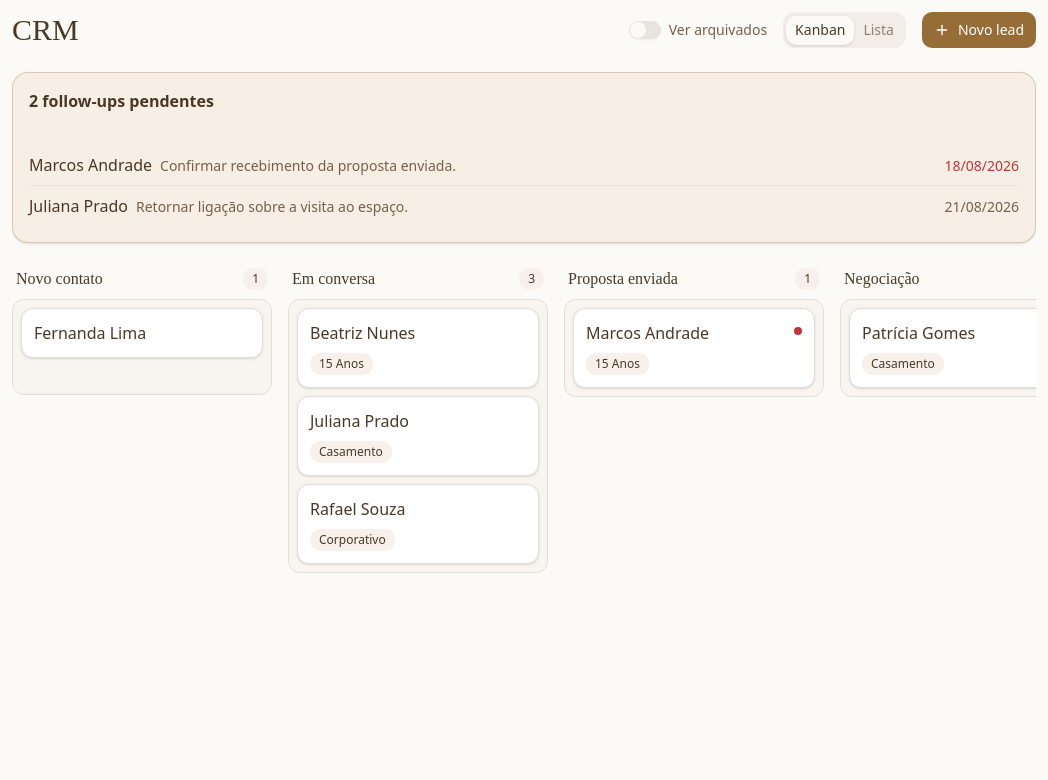
it: CrmPage — lista view › inline select offers only active stages, not inactive ones
Click the tab "Lista" at (879, 30), box [854,16,903,44]
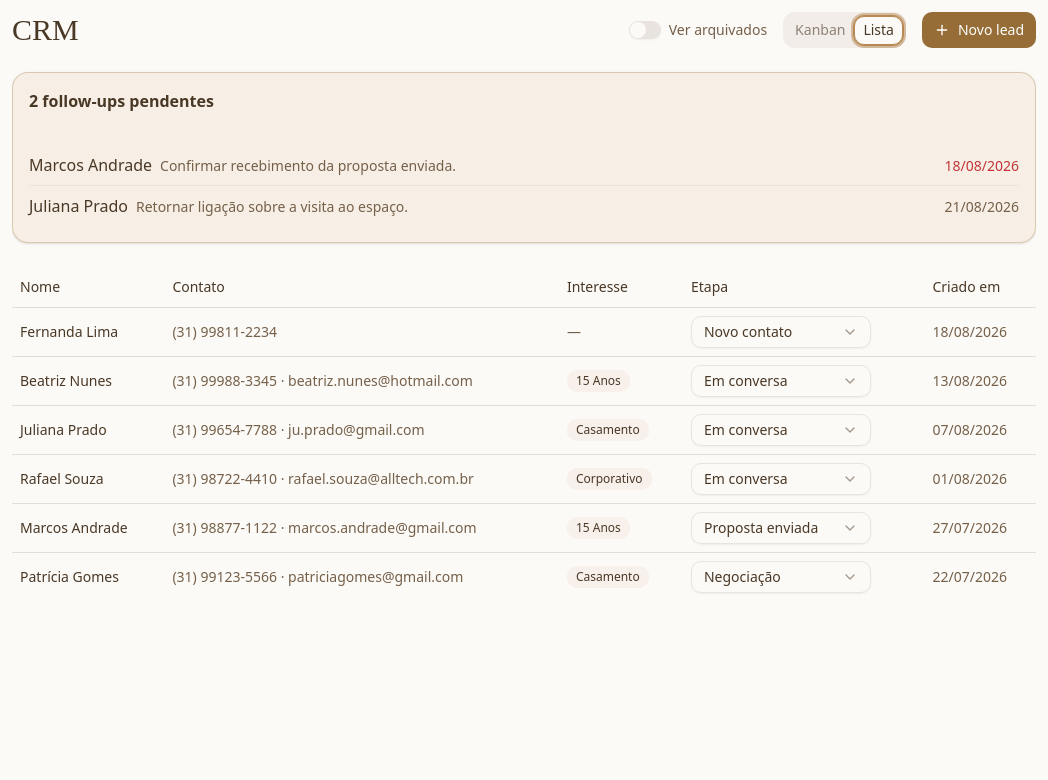
Click the dropdown named "Etapa de Fernanda Lima" at (781, 332), box [691,316,871,348]
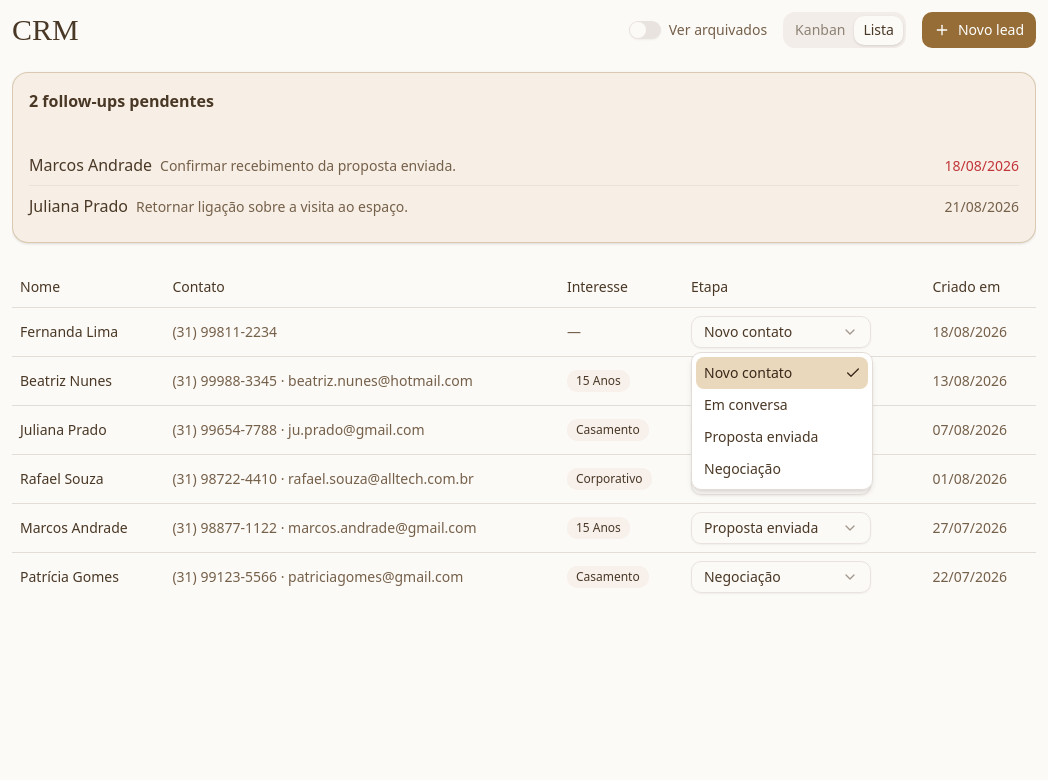
Now the option "Novo contato" is shown, box [696,357,868,389]
Now the option "Em conversa" is shown, box [704,395,788,414]
Now the option "Proposta enviada" is shown, box [704,427,818,446]
